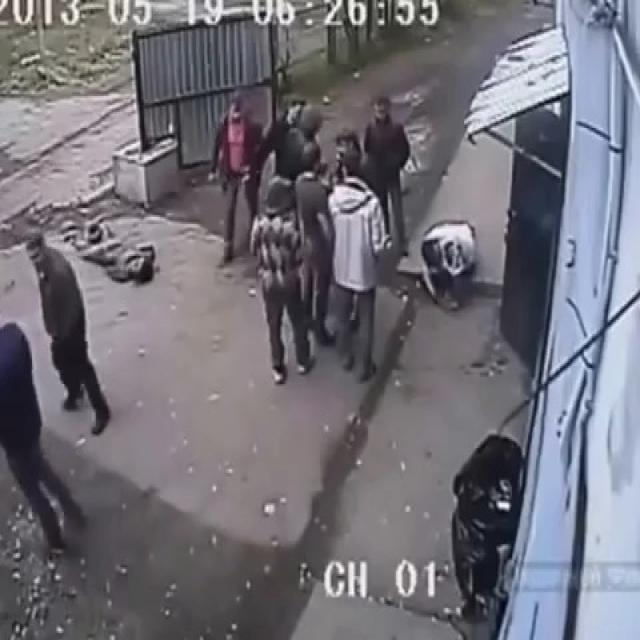fight: (193, 62, 434, 299)
